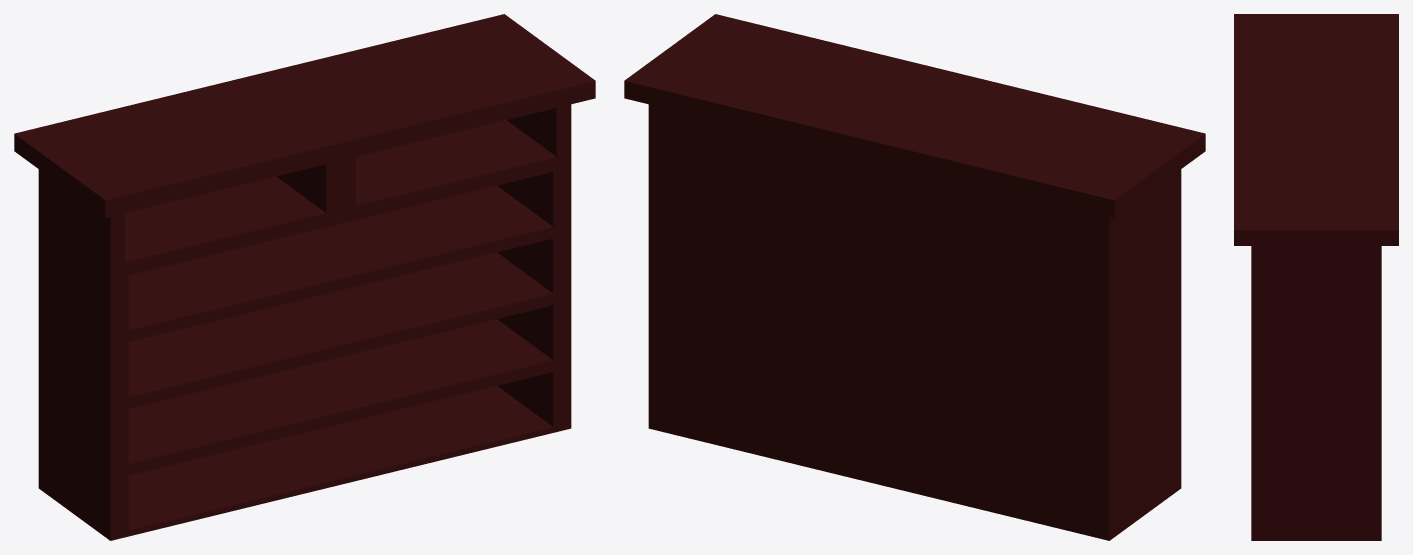
The model's file is Cupboard.fbx.
3 views of the same model, side by side, from view 1: azimuth 30°, elevation 25°; view 2: azimuth 150°, elevation 25°; view 3: azimuth 270°, elevation 25° (orthographic). The views are drawn at different scales.
Visible parts, largest first — view 1: Cupboard; view 2: Cupboard; view 3: Cupboard.
Part boxes in pixels (<box>): Cupboard: <box>14,14,595,540</box>; Cupboard: <box>624,14,1205,540</box>; Cupboard: <box>1234,14,1398,540</box>.
Bounding box in the file's own units: 174 × 119 × 56.26.
